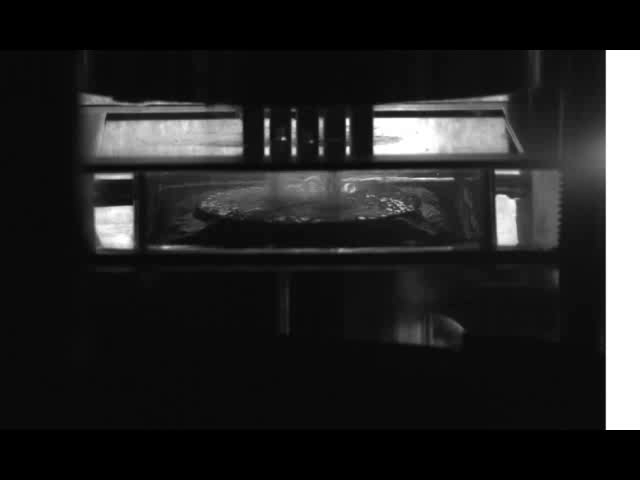Zona de teste: (200, 179, 413, 225)
